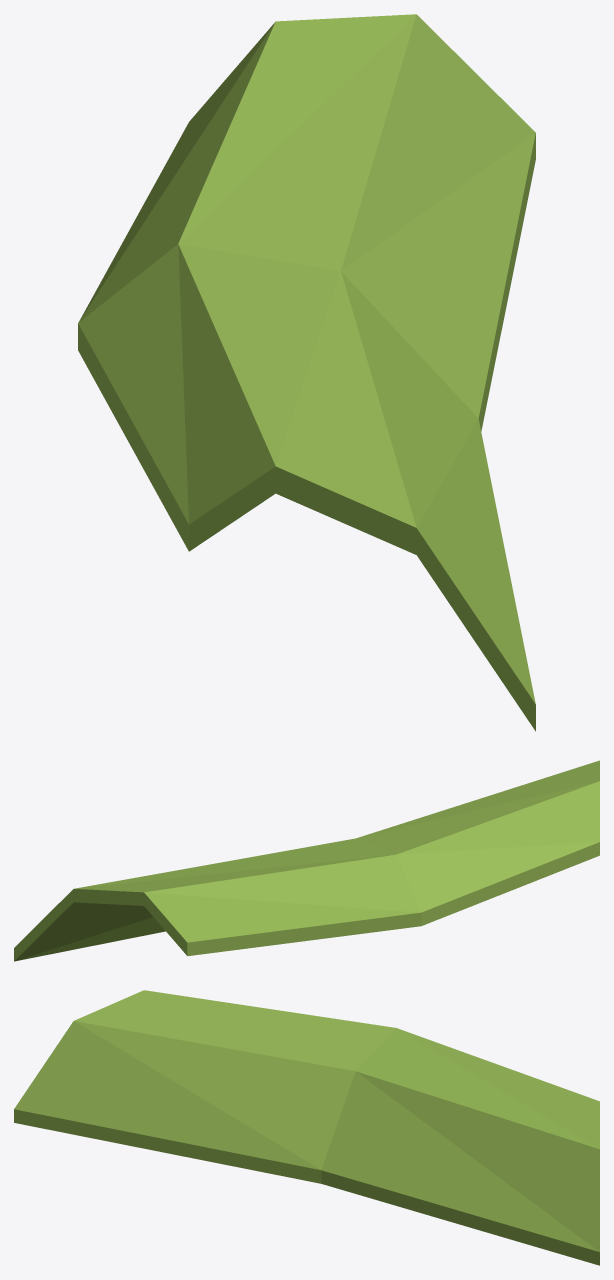
3 renders of one model, top to bottom at view 1: azimuth 30°, elevation 25°; view 2: azimuth 150°, elevation 25°; view 3: azimuth 270°, elevation 25°, orthographic. The views are drawn at different scales.
Parts seen in each view (by area): view 1: 汇流岸角_1.001; view 2: 汇流岸角_1.001; view 3: 汇流岸角_1.001.
Boxes of the visible parts, x1=… form: 汇流岸角_1.001: x1=78, y1=14, x2=535, y2=731; 汇流岸角_1.001: x1=14, y1=760, x2=599, y2=961; 汇流岸角_1.001: x1=14, y1=990, x2=599, y2=1265.
Size of the model in its own units: 0.3503 by 0.089 by 0.4682.
